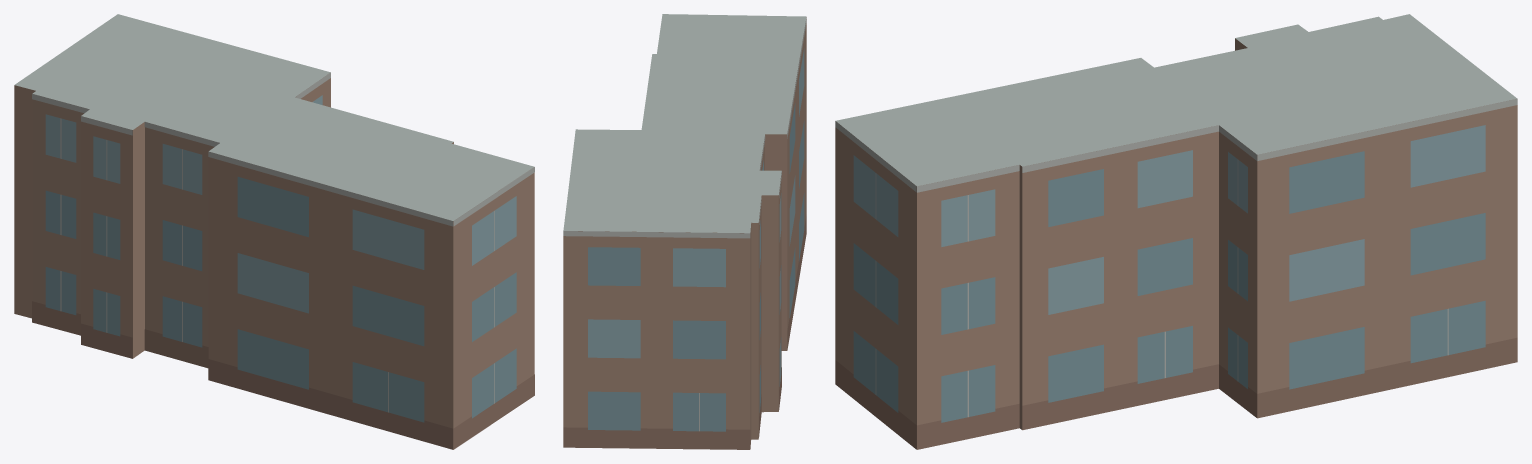
File: survey-upis-32678609.glb
3 renders of one model, left to right at view 1: azimuth 30°, elevation 25°; view 2: azimuth 150°, elevation 25°; view 3: azimuth 270°, elevation 25°, orthographic. The views are drawn at different scales.
Parts seen in each view (by area): view 1: survey-upis-32678609.tmp; view 2: survey-upis-32678609.tmp; view 3: survey-upis-32678609.tmp.
Part boxes in pixels (box(x1,y1,x2,y2)): survey-upis-32678609.tmp: box(14, 14, 534, 449); survey-upis-32678609.tmp: box(563, 14, 806, 449); survey-upis-32678609.tmp: box(835, 14, 1517, 449).
Size of the model in its own units: 14.18 by 10.1 by 23.71.
